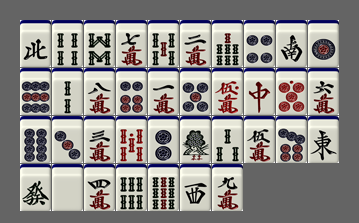0m: (212, 68, 243, 115)
0p: (276, 68, 307, 115)
0s: (116, 116, 147, 163)
1m: (148, 68, 179, 115)
1p: (308, 20, 339, 67)
1s: (180, 116, 211, 163)
1z: (308, 116, 339, 163)
2m: (180, 20, 211, 67)
2p: (148, 116, 179, 163)
2s: (52, 68, 83, 115)
2z: (276, 20, 307, 67)
3m: (84, 116, 115, 163)
3p: (52, 116, 83, 163)
3s: (212, 116, 243, 163)
3z: (180, 164, 211, 211)
4m: (84, 164, 115, 211)
4p: (244, 20, 275, 67)
4s: (52, 20, 83, 67)
4z: (20, 20, 51, 67)
5m: (244, 116, 275, 163)
5p: (180, 68, 211, 115)
5s: (148, 20, 179, 67)
5z: (52, 164, 83, 211)
6m: (308, 68, 339, 115)
6p: (116, 68, 147, 115)
6s: (116, 164, 147, 211)
6z: (20, 164, 51, 211)
7m: (116, 20, 147, 67)
7p: (276, 116, 307, 163)
7s: (212, 20, 243, 67)
7z: (244, 68, 275, 115)
8m: (84, 68, 115, 115)
8p: (20, 116, 51, 163)
8s: (84, 20, 115, 67)
9m: (212, 164, 243, 211)
9p: (20, 68, 51, 115)
9s: (148, 164, 179, 211)
